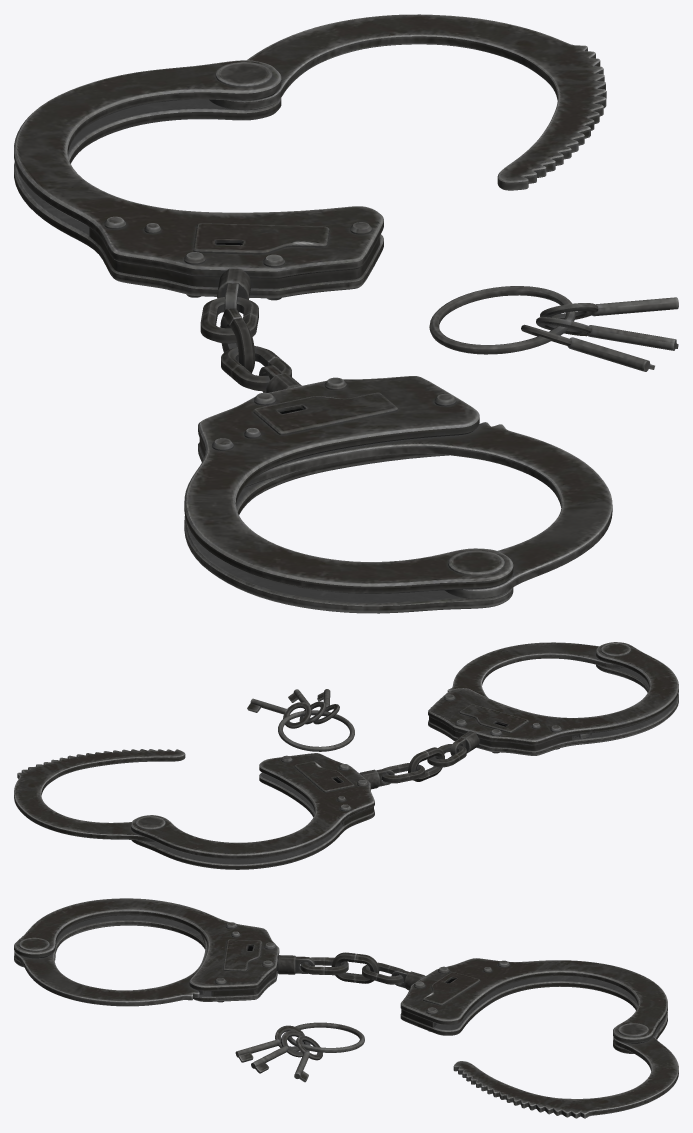
The model's file is Handcuffs.glb.
The picture shows the model from 3 angles, top to bottom: view 1: azimuth 30°, elevation 25°; view 2: azimuth 150°, elevation 25°; view 3: azimuth 270°, elevation 25°; orthographic projection. The views are drawn at different scales.
Visible parts, largest first — view 1: Object_3; view 2: Object_3; view 3: Object_3.
Part boxes in pixels (x1,y1,x2,y2): Object_3: (14,14,678,613); Object_3: (14,642,678,869); Object_3: (14,898,678,1118).
Size of the model in its own units: 4.48 by 0.273 by 5.99.
Materials: 1 (1 with a texture image).
